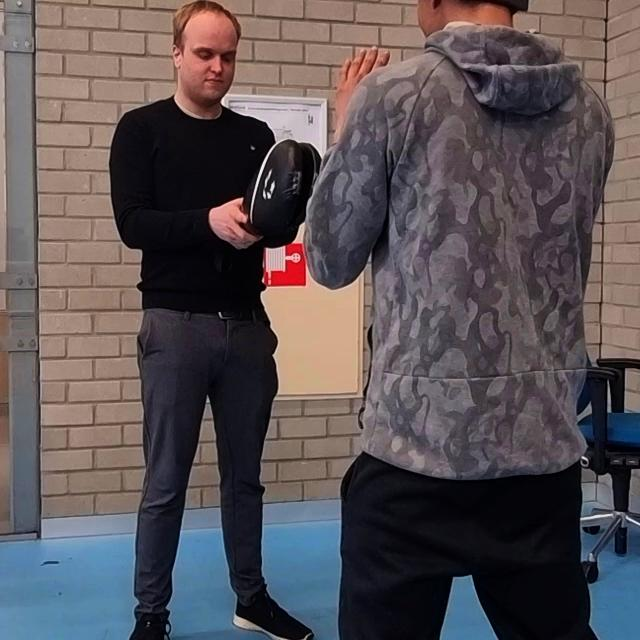paddle: (241, 138, 325, 235)
